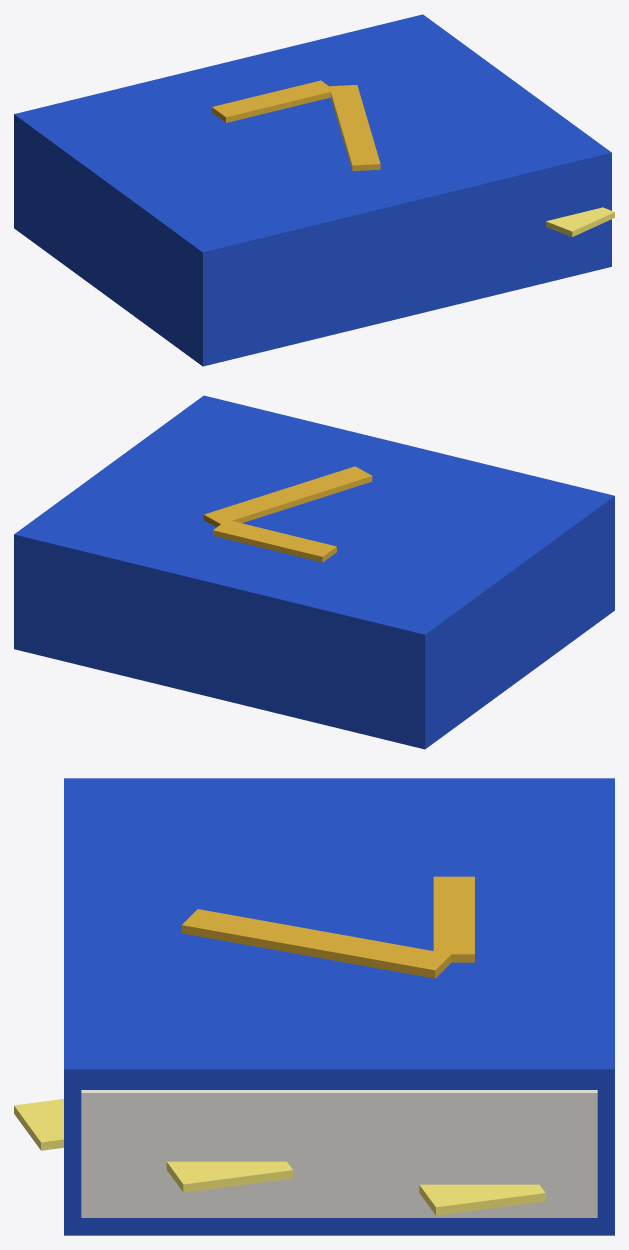
Rendered from birthday_album.glb.
The picture shows the model from 3 angles, top to bottom: view 1: azimuth 30°, elevation 25°; view 2: azimuth 150°, elevation 25°; view 3: azimuth 270°, elevation 25°; orthographic projection. The views are drawn at different scales.
Parts seen in each view (by area): view 1: cover_album_cover, seven_album_gold, photos_album_photo; view 2: cover_album_cover, seven_album_gold; view 3: cover_album_cover, pages_white, seven_album_gold, photos_album_photo (×3).
Boxes of the visible parts, box(x1,y1,x2,y2) form: cover_album_cover: box(14, 14, 611, 366); seven_album_gold: box(212, 80, 380, 171); photos_album_photo: box(546, 207, 614, 237); cover_album_cover: box(14, 395, 614, 749); seven_album_gold: box(203, 466, 372, 562); cover_album_cover: box(64, 778, 614, 1235); pages_white: box(81, 1090, 597, 1217); seven_album_gold: box(181, 876, 474, 978); photos_album_photo (×3): box(14, 1099, 545, 1215).
Size of the model in its own units: 0.3265 by 0.084 by 0.2618.
